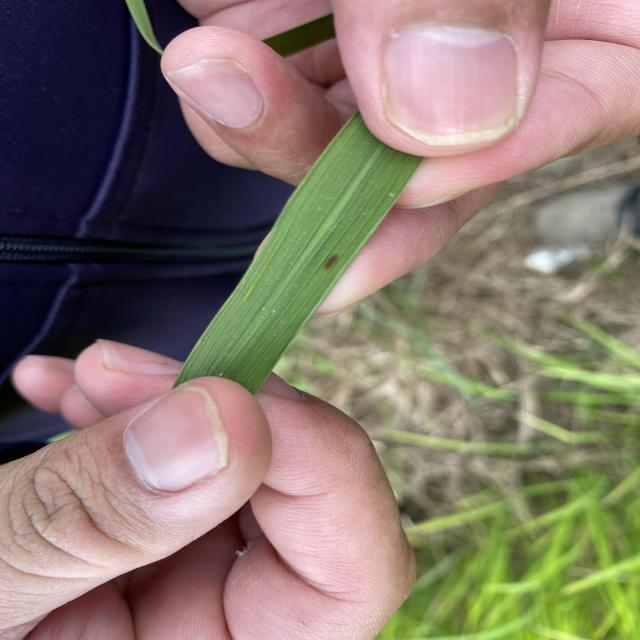Dom nau: (323, 252, 341, 271)
